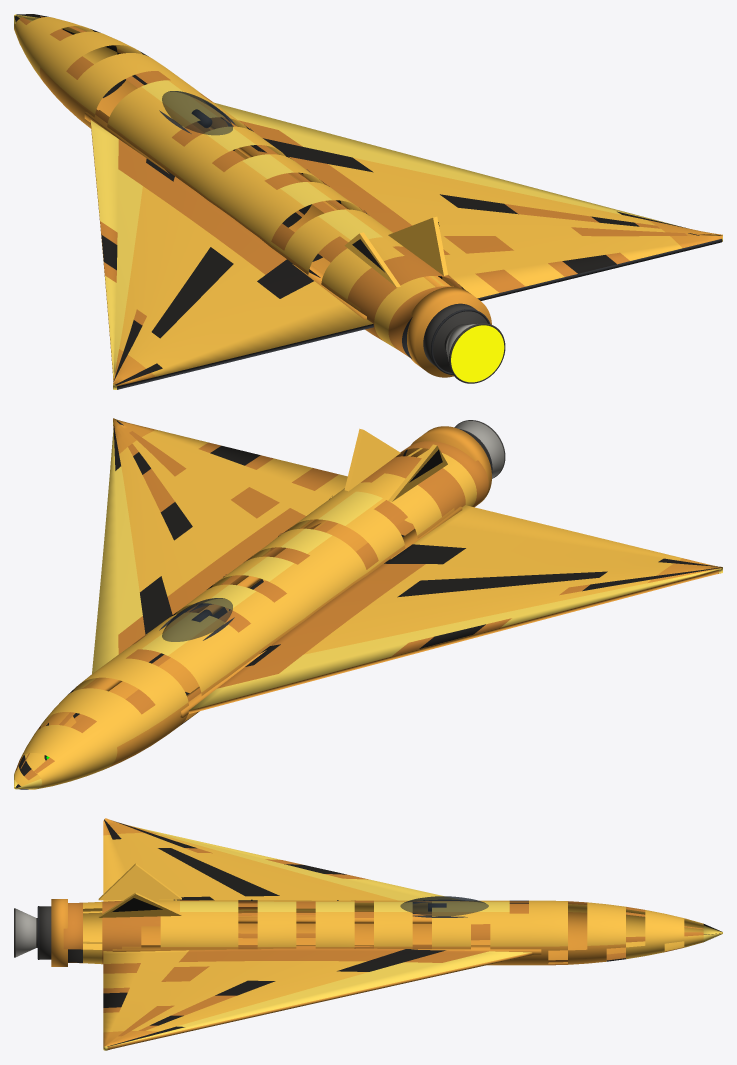
Rendered from Ship_TigerWing_2.glb.
3 renders of one model, top to bottom at view 1: azimuth 30°, elevation 25°; view 2: azimuth 150°, elevation 25°; view 3: azimuth 270°, elevation 25°, orthographic. The views are drawn at different scales.
Parts seen in each view (by area): view 1: Fuselage_OrganicEllipsoidTaperedBody_BakedPaint, Wing_Left_LongDeltaAerofoil_BakedPaint, Wing_Right_LongDeltaAerofoil_BakedPaint, AftCollar_IntegratedSingleEngineBand, EngineEmitter, CanopyGlass_LowInsetDome, EngineBlock_AftDarkSingleEngineHousing, TailFin_Right_CantedStabilizer, WingRoot_Left_EmbeddedShoulder, TailFin_Left_CantedStabilizer; view 2: Fuselage_OrganicEllipsoidTaperedBody_BakedPaint, Wing_Left_LongDeltaAerofoil_BakedPaint, Wing_Right_LongDeltaAerofoil_BakedPaint, CanopyGlass_LowInsetDome, TailFin_Right_CantedStabilizer, AftCollar_IntegratedSingleEngineBand, EngineBell_Center_BroadBurnishedNozzle, TailFin_Left_CantedStabilizer, WingRoot_Left_EmbeddedShoulder, WingRoot_Right_EmbeddedShoulder; view 3: Fuselage_OrganicEllipsoidTaperedBody_BakedPaint, Wing_Right_LongDeltaAerofoil_BakedPaint, Wing_Left_LongDeltaAerofoil_BakedPaint, TailFin_Left_CantedStabilizer, CanopyGlass_LowInsetDome, AftCollar_IntegratedSingleEngineBand, EngineBell_Center_BroadBurnishedNozzle, TailFin_Right_CantedStabilizer, WingRoot_Right_EmbeddedShoulder, EngineBlock_AftDarkSingleEngineHousing, WingRoot_Left_EmbeddedShoulder.
Boxes of the visible parts, box(x1,y1,x2,y2) form: Fuselage_OrganicEllipsoidTaperedBody_BakedPaint: box(14, 14, 464, 358); Wing_Left_LongDeltaAerofoil_BakedPaint: box(90, 120, 373, 389); Wing_Right_LongDeltaAerofoil_BakedPaint: box(215, 103, 722, 300); AftCollar_IntegratedSingleEngineBand: box(407, 287, 491, 377); EngineEmitter: box(451, 325, 504, 382); CanopyGlass_LowInsetDome: box(162, 91, 232, 135); EngineBlock_AftDarkSingleEngineHousing: box(423, 303, 487, 372); TailFin_Right_CantedStabilizer: box(388, 216, 447, 275); WingRoot_Left_EmbeddedShoulder: box(84, 110, 366, 319); TailFin_Left_CantedStabilizer: box(344, 232, 400, 287); Fuselage_OrganicEllipsoidTaperedBody_BakedPaint: box(14, 441, 488, 789); Wing_Left_LongDeltaAerofoil_BakedPaint: box(188, 505, 722, 714); Wing_Right_LongDeltaAerofoil_BakedPaint: box(92, 418, 347, 673); CanopyGlass_LowInsetDome: box(162, 598, 232, 641); TailFin_Right_CantedStabilizer: box(344, 428, 400, 491); AftCollar_IntegratedSingleEngineBand: box(405, 426, 491, 507); EngineBell_Center_BroadBurnishedNozzle: box(455, 421, 504, 478); TailFin_Left_CantedStabilizer: box(388, 444, 447, 501); WingRoot_Left_EmbeddedShoulder: box(180, 506, 462, 717); WingRoot_Right_EmbeddedShoulder: box(87, 519, 327, 691); Fuselage_OrganicEllipsoidTaperedBody_BakedPaint: box(63, 900, 722, 965); Wing_Right_LongDeltaAerofoil_BakedPaint: box(103, 946, 533, 1050); Wing_Left_LongDeltaAerofoil_BakedPaint: box(103, 818, 457, 916); TailFin_Left_CantedStabilizer: box(98, 863, 181, 900); CanopyGlass_LowInsetDome: box(400, 896, 488, 916); AftCollar_IntegratedSingleEngineBand: box(51, 899, 67, 966); EngineBell_Center_BroadBurnishedNozzle: box(15, 909, 36, 956); TailFin_Right_CantedStabilizer: box(98, 892, 181, 917); WingRoot_Right_EmbeddedShoulder: box(112, 945, 541, 954); EngineBlock_AftDarkSingleEngineHousing: box(39, 906, 51, 959); WingRoot_Left_EmbeddedShoulder: box(238, 916, 431, 923).
Bounding box in the file's own units: 6.39 × 1.12 × 8.39.
